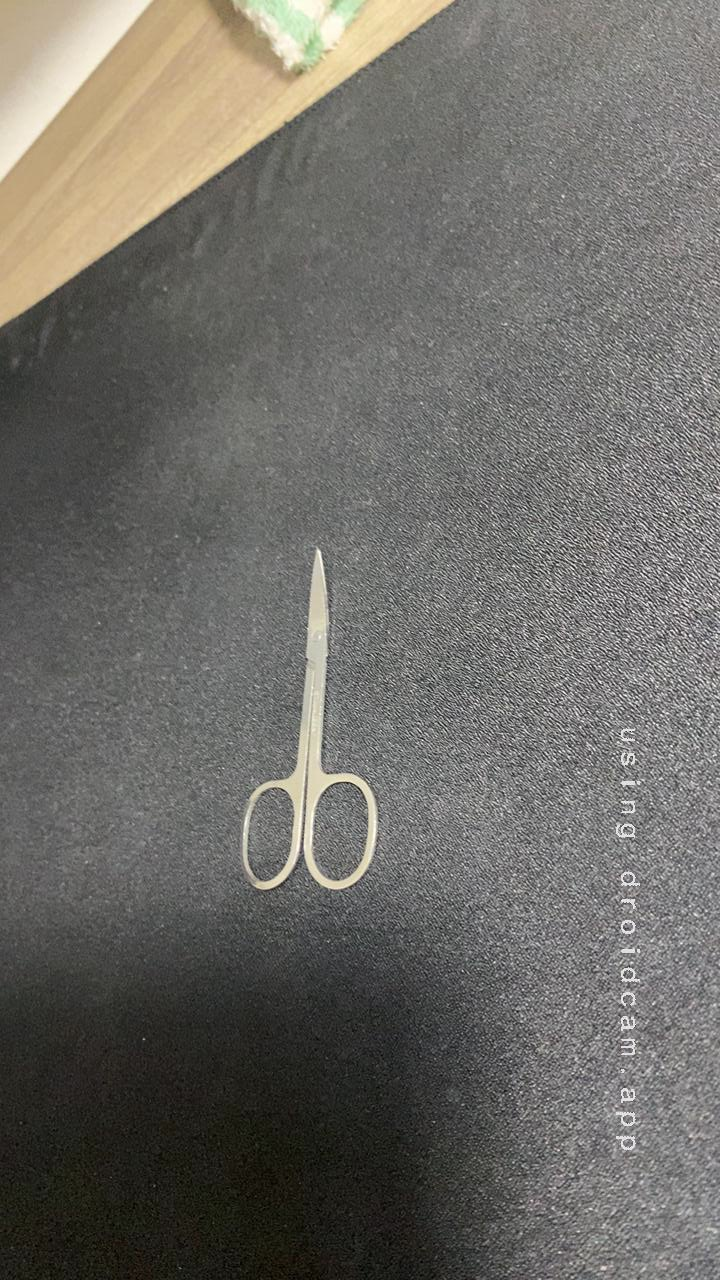scissor: (209, 545, 392, 904)
